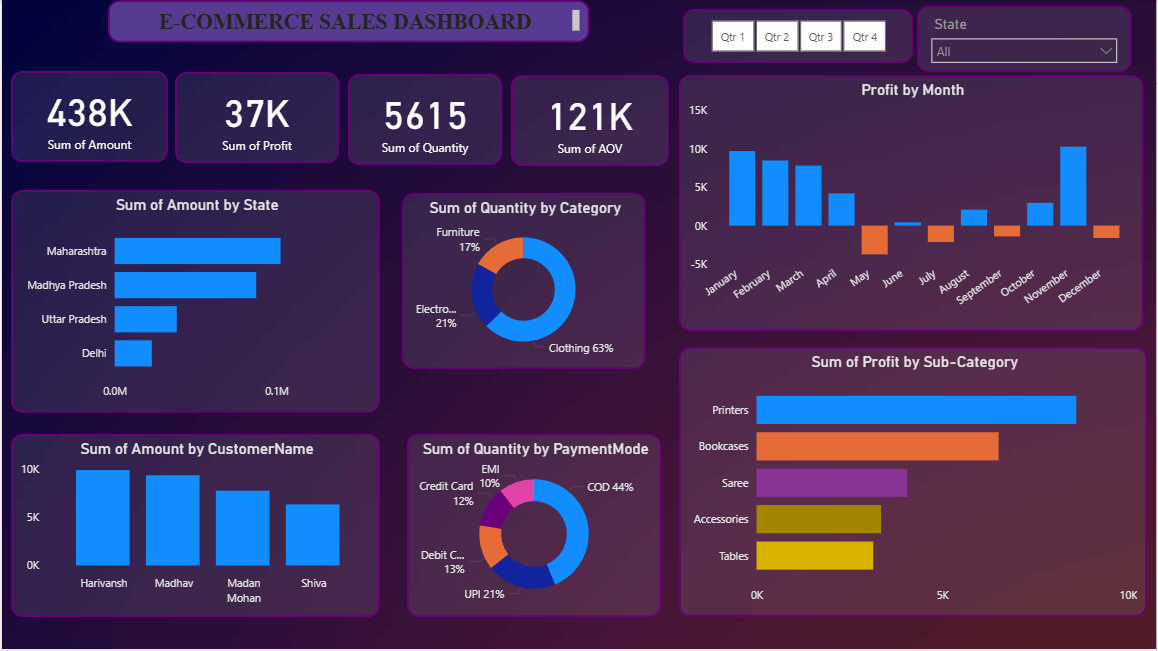

The page's visual inventory and layout, read from the dashboard file:
{"tool":"powerbi","page":{"name":"Page 1","canvas":[1280,720],"ordinal":0},"visuals":[{"type":"textbox","box":[117.6,0,533.5,46.6],"z":0},{"type":"columnChart","title":"Profit by Month","fields":{"Y":["Details.Profit"],"Category":["Orders.Order Date.Variation.Date Hierarchy.Month"]},"box":[750.9,83.2,514.7,284],"z":1000},{"type":"barChart","fields":{"Category":["Details.Sub-Category"],"Y":["Details.Profit"]},"box":[750.9,384.9,519.1,299.5],"z":2000},{"type":"donutChart","fields":{"Category":["Details.Category"],"Y":["Details.Quantity"]},"box":[443.7,214.1,269.5,195.2],"z":3000},{"type":"donutChart","fields":{"Y":["Details.Quantity"],"Category":["Details.PaymentMode"]},"box":[449.2,481.4,281.7,203],"z":4000},{"type":"card","fields":{"Values":["Details.Amount"]},"box":[10,78.8,174.1,100.9],"z":5000},{"type":"card","fields":{"Values":["Details.Quantity"]},"box":[383.8,82.1,170.8,100.9],"z":6000},{"type":"card","fields":{"Values":["Details.Profit"]},"box":[191.9,79.9,181.9,100.9],"z":7000},{"type":"card","fields":{"Values":["Details.AOV"]},"box":[564.6,83.2,175.3,100.9],"z":8000},{"type":"barChart","fields":{"Category":["Orders.State"],"Y":["Details.Amount"]},"box":[10,210.7,409.3,247.3],"z":9000},{"type":"columnChart","fields":{"Category":["Orders.CustomerName"],"Y":["Details.Amount"]},"box":[10,481,409,203],"z":9001},{"type":"slicer","fields":{"Values":["Orders.Order Date.Variation.Date Hierarchy.Quarter"]},"box":[755.4,10,255.1,59.9],"z":9002},{"type":"slicer","fields":{"Values":["Orders.State"]},"box":[1014.9,6.7,238.5,73.2],"z":9003}]}

Visuals, with their boxes in screenshot pixels (x1, y1, x2, y2), scaled from the page's 1280x720 canvas onto the 1158x651 screenshot:
textbox: l=106, t=0, r=589, b=42
"Profit by Month" columnChart: l=679, t=75, r=1145, b=332
barChart - Details.Sub-Category x Details.Profit: l=679, t=348, r=1149, b=619
donutChart - Details.Category x Details.Quantity: l=401, t=194, r=645, b=370
donutChart - Details.Quantity x Details.PaymentMode: l=406, t=435, r=661, b=619
card - Details.Amount: l=9, t=71, r=167, b=162
card - Details.Quantity: l=347, t=74, r=502, b=165
card - Details.Profit: l=174, t=72, r=338, b=163
card - Details.AOV: l=511, t=75, r=669, b=166
barChart - Orders.State x Details.Amount: l=9, t=191, r=379, b=414
columnChart - Orders.CustomerName x Details.Amount: l=9, t=435, r=379, b=618
slicer - Orders.Order Date.Variation.Date Hierarchy.Quarter: l=683, t=9, r=914, b=63
slicer - Orders.State: l=918, t=6, r=1134, b=72
